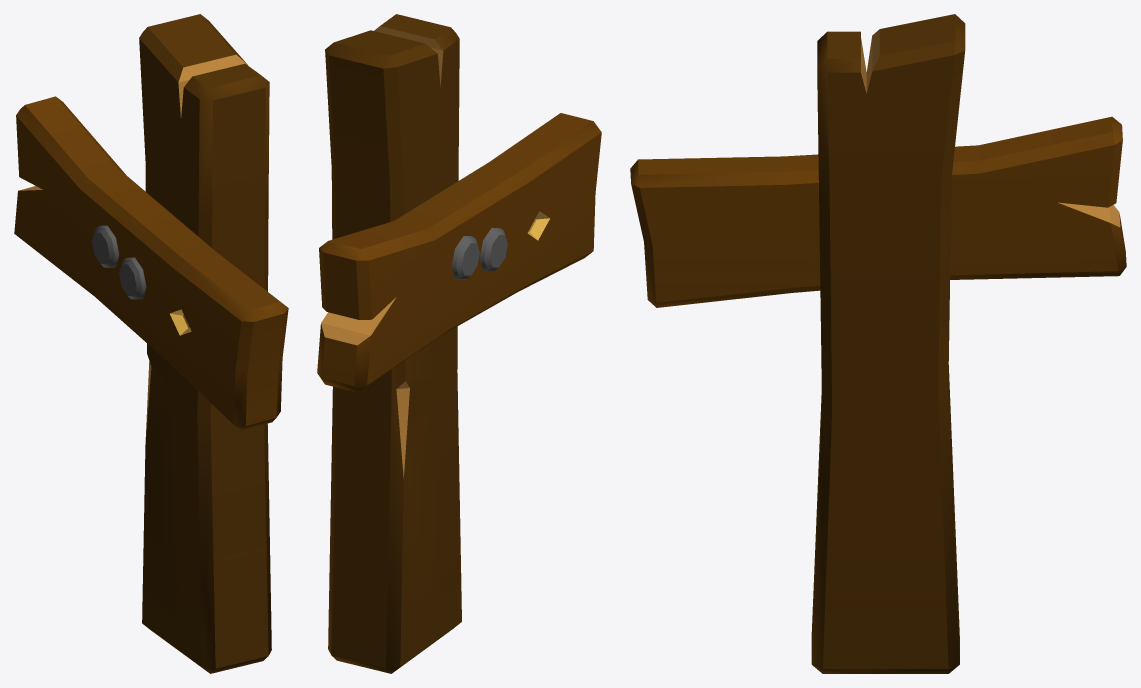
The model's file is Cross_3_1.glb.
3 renders of one model, left to right at view 1: azimuth 30°, elevation 25°; view 2: azimuth 150°, elevation 25°; view 3: azimuth 270°, elevation 25°, orthographic. The views are drawn at different scales.
Parts seen in each view (by area): view 1: Cross_3_1; view 2: Cross_3_1; view 3: Cross_3_1.
Part boxes in pixels (x1,y1,x2,y2): Cross_3_1: (14,14,288,673); Cross_3_1: (317,14,601,673); Cross_3_1: (630,14,1126,673).
Bounding box in the file's own units: 0.2142 × 0.9854 × 0.7006.
2 materials, 2 textured.
